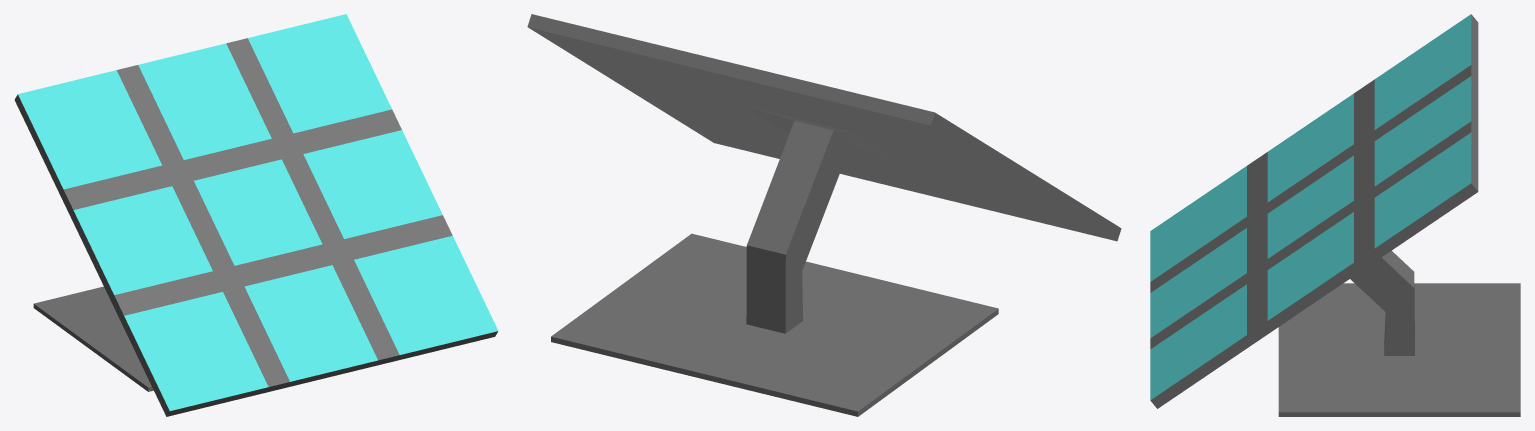
Rendered from Painel_solar.fbx.
3 views of the same model, side by side, from view 1: azimuth 30°, elevation 25°; view 2: azimuth 150°, elevation 25°; view 3: azimuth 270°, elevation 25° (orthographic). The views are drawn at different scales.
Parts seen in each view (by area): view 1: Painel_solar; view 2: Painel_solar; view 3: Painel_solar.
Part boxes in pixels (x1,y1,x2,y2): Painel_solar: (14, 14, 498, 416); Painel_solar: (527, 14, 1121, 416); Painel_solar: (1150, 14, 1520, 416).
Size of the model in its own units: 121 by 84.42 by 112.
